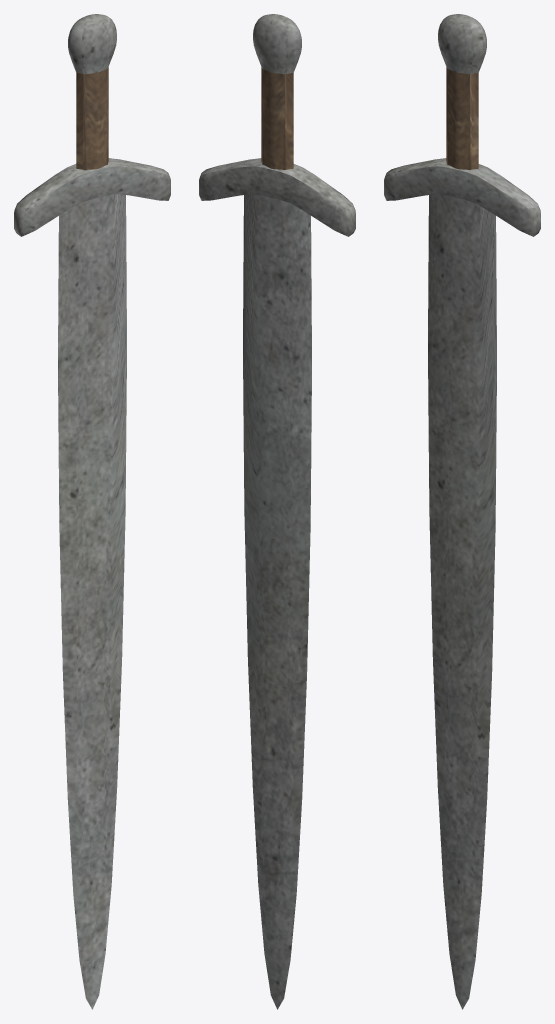
Rendered from old_sword.glb.
The picture shows the model from 3 angles, left to right: view 1: azimuth 30°, elevation 25°; view 2: azimuth 150°, elevation 25°; view 3: azimuth 330°, elevation 25°; orthographic projection.
Parts seen in each view (by area): view 1: Sword_Leather_0; view 2: Sword_Leather_0; view 3: Sword_Leather_0.
Part boxes in pixels (x1,y1,x2,y2): Sword_Leather_0: [14, 14, 170, 1009]; Sword_Leather_0: [199, 14, 355, 1009]; Sword_Leather_0: [384, 14, 540, 1009].
Bounding box in the file's own units: 0.0581 × 0.3631 × 0.0104.
Materials: 2 (2 with a texture image).
